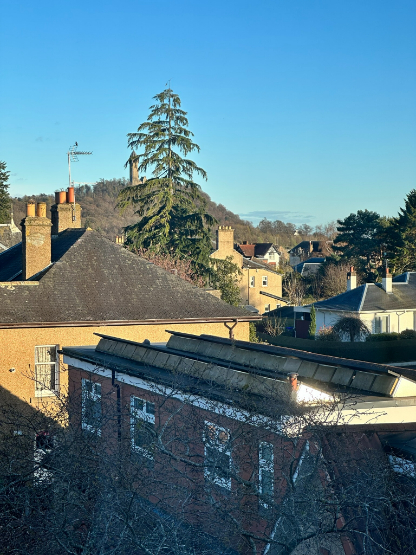tree: (114, 87, 259, 274)
